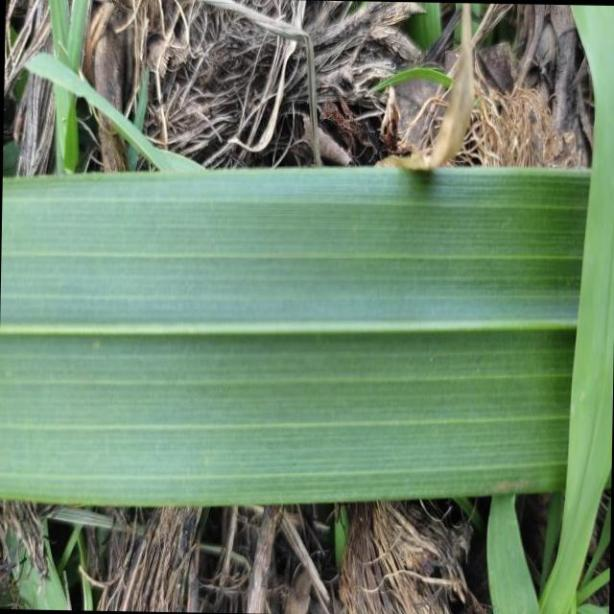Healthy: (0, 166, 614, 502)
